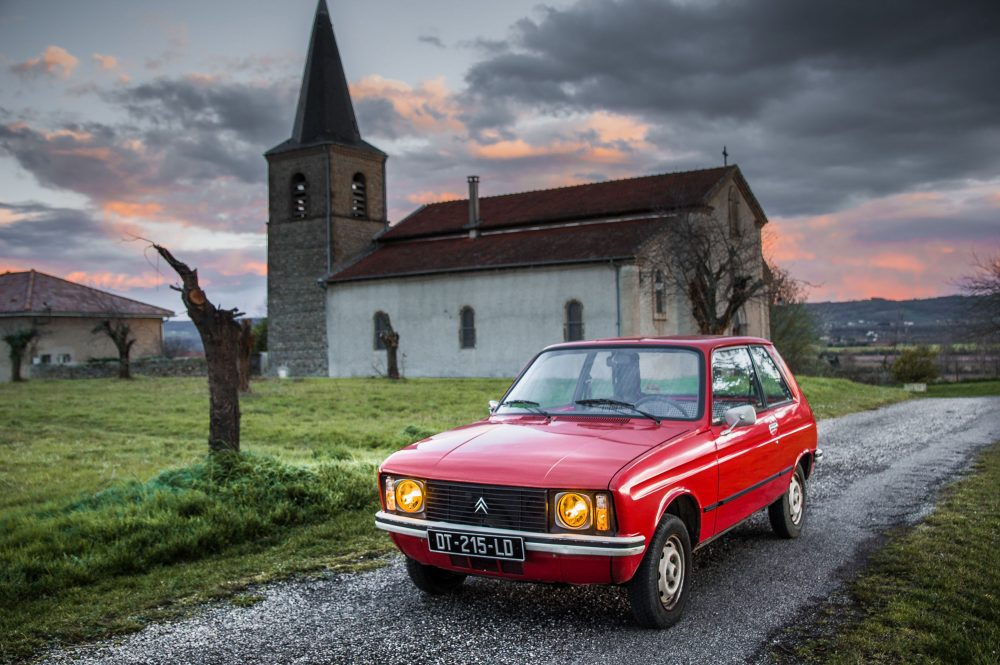car: (370, 327, 825, 634)
